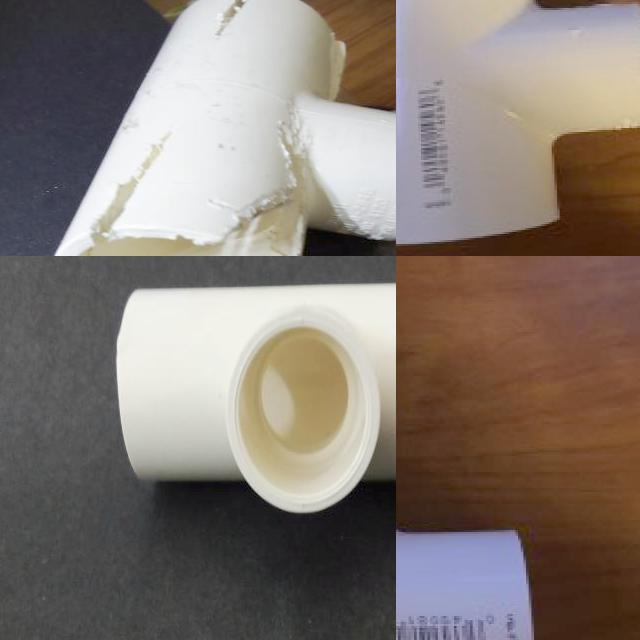Defective: (90, 133, 200, 251), (109, 191, 245, 248), (180, 0, 329, 51), (278, 105, 325, 210), (216, 202, 307, 256), (237, 182, 301, 222), (62, 194, 94, 245), (328, 38, 349, 103)
T Joint: (53, 0, 396, 256), (114, 283, 396, 517), (396, 0, 640, 248)
